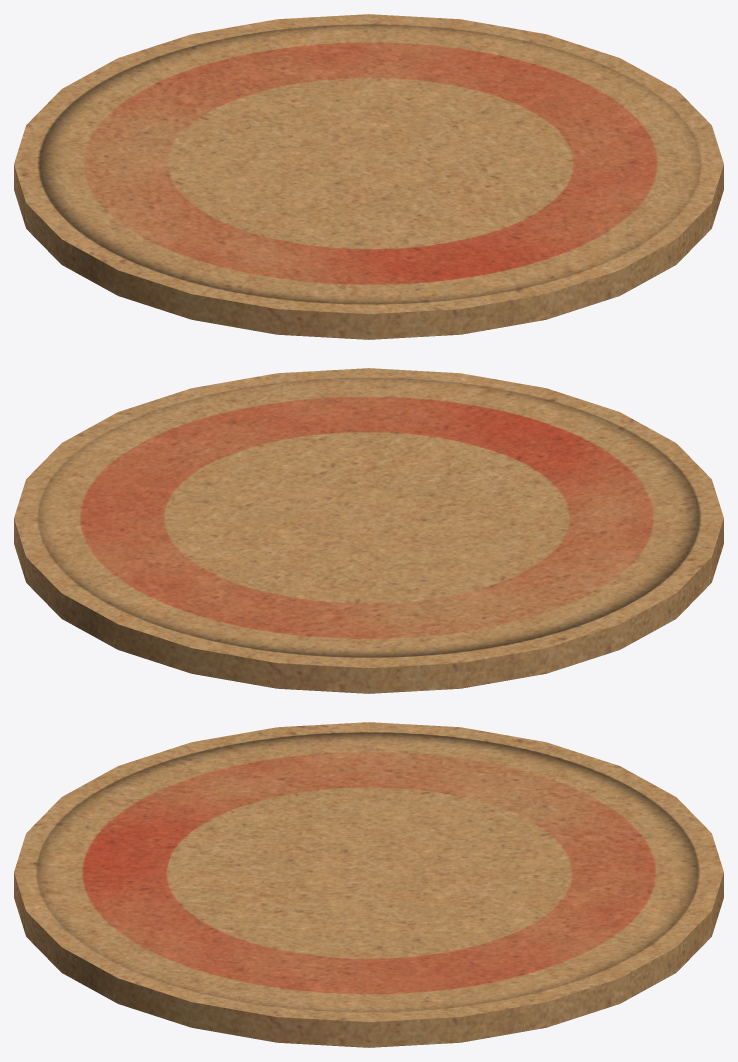
Rendered from Coaster_c02.fbx.
3 renders of one model, top to bottom at view 1: azimuth 30°, elevation 25°; view 2: azimuth 150°, elevation 25°; view 3: azimuth 270°, elevation 25°, orthographic.
Visible parts, largest first — view 1: Coaster_c02; view 2: Coaster_c02; view 3: Coaster_c02.
Part boxes in pixels (x1,y1,x2,y2): Coaster_c02: (14,14,723,339); Coaster_c02: (14,368,723,693); Coaster_c02: (14,722,723,1047).
Bounding box in the file's own units: 8.48 × 0.3379 × 8.48.
1 material, 1 textured.
